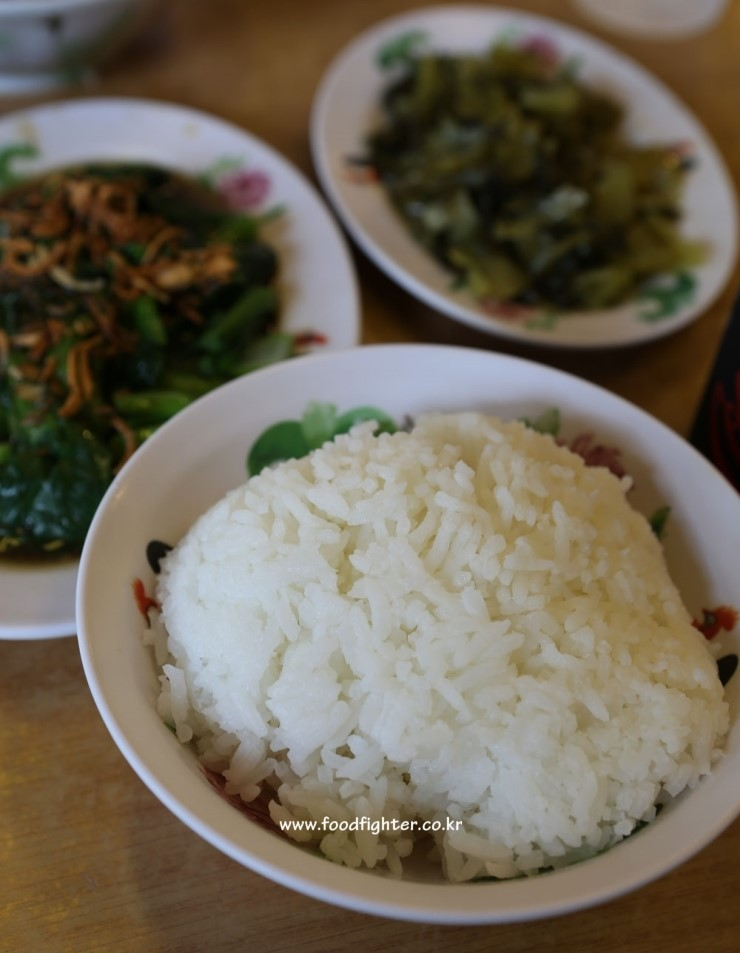plain rice: (148, 425, 719, 869)
